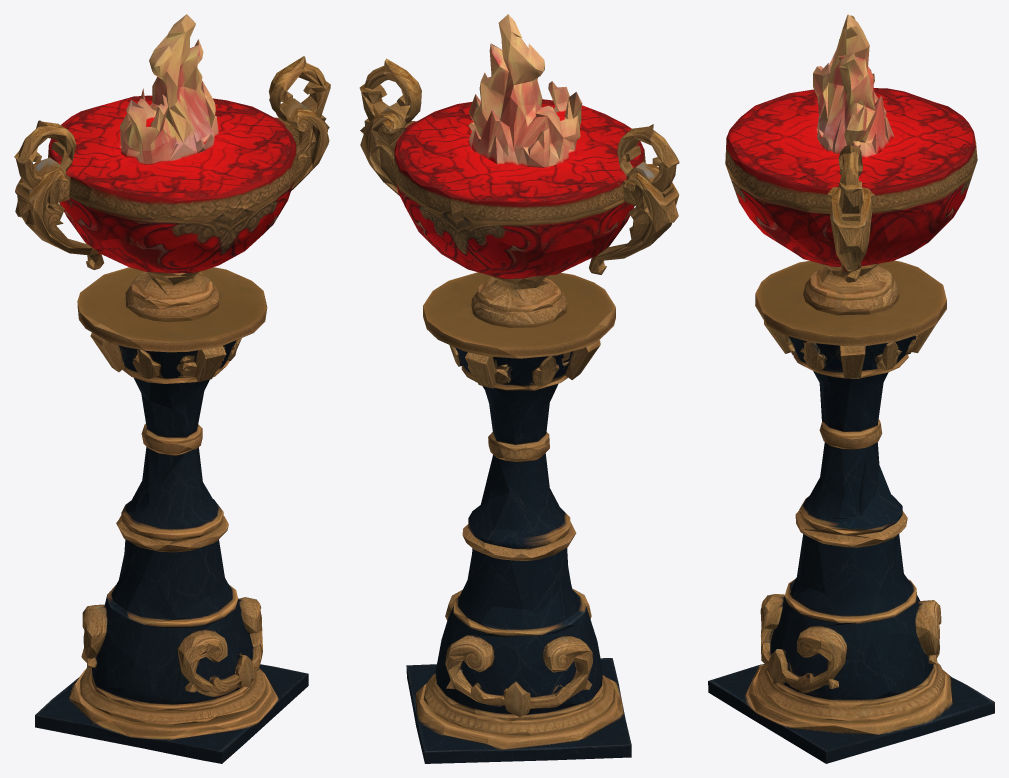
Rendered from brazier.glb.
3 views of the same model, side by side, from view 1: azimuth 30°, elevation 25°; view 2: azimuth 150°, elevation 25°; view 3: azimuth 270°, elevation 25° (orthographic).
Size of the model in its own units: 0.8996 by 1.9 by 0.7113.
Materials: 1 (1 with a texture image).
